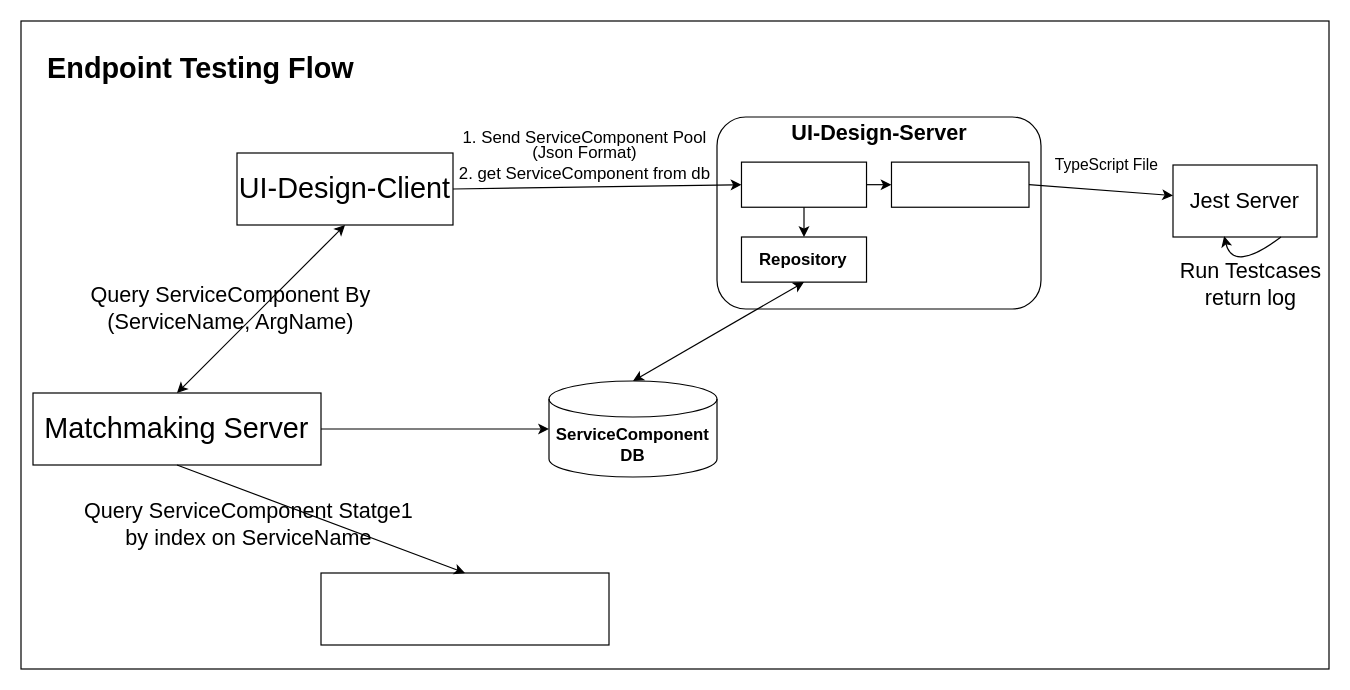
The diagram is 1350 pixels wide and 690 high, and some of its shapes have lost their labels. The shapes that lost their labels are listed below. From the top down, each one's box as (x1, y1, x2, y2) in pixels, then its label:
(740, 161, 867, 207): RestController
(890, 161, 1029, 207): Freemarker Gen Testcases
(320, 572, 609, 645): R-Tree Index Server
